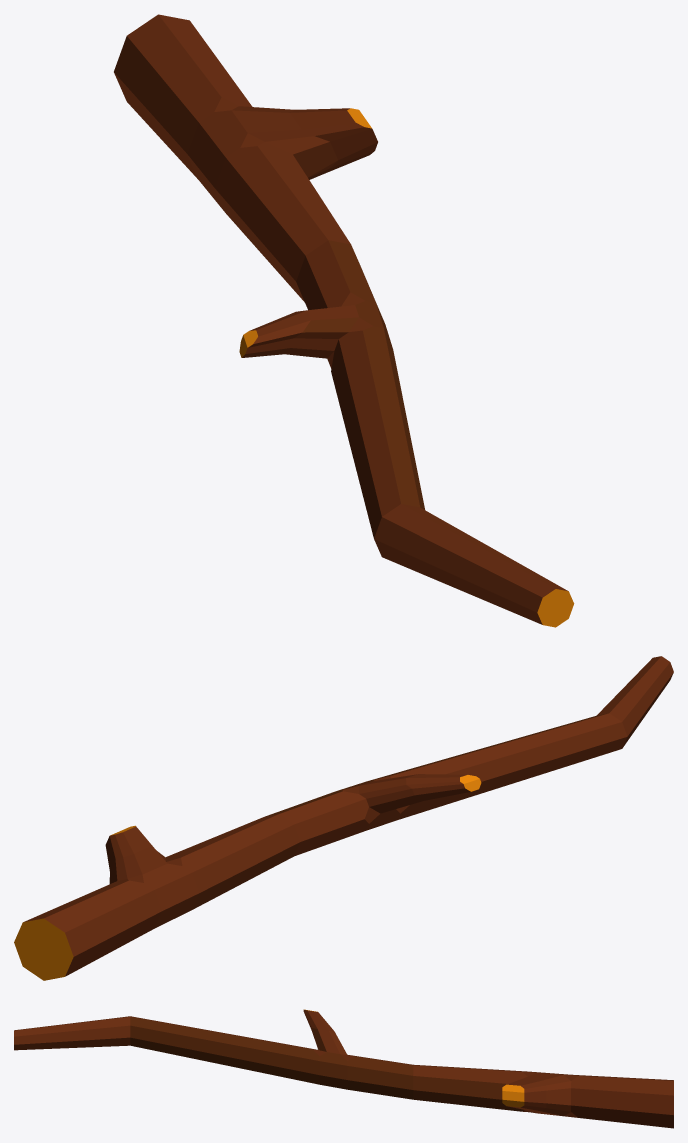
The model's file is Stick_47.fbx.
The picture shows the model from 3 angles, top to bottom: view 1: azimuth 30°, elevation 25°; view 2: azimuth 150°, elevation 25°; view 3: azimuth 270°, elevation 25°; orthographic projection. The views are drawn at different scales.
Parts seen in each view (by area): view 1: Circle.417; view 2: Circle.417; view 3: Circle.417.
Part boxes in pixels (x1=…): Circle.417: x1=114, y1=14, x2=574, y2=627; Circle.417: x1=14, y1=656, x2=673, y2=980; Circle.417: x1=14, y1=1009, x2=673, y2=1128.
Bounding box in the file's own units: 14.72 × 3.82 × 43.67.
